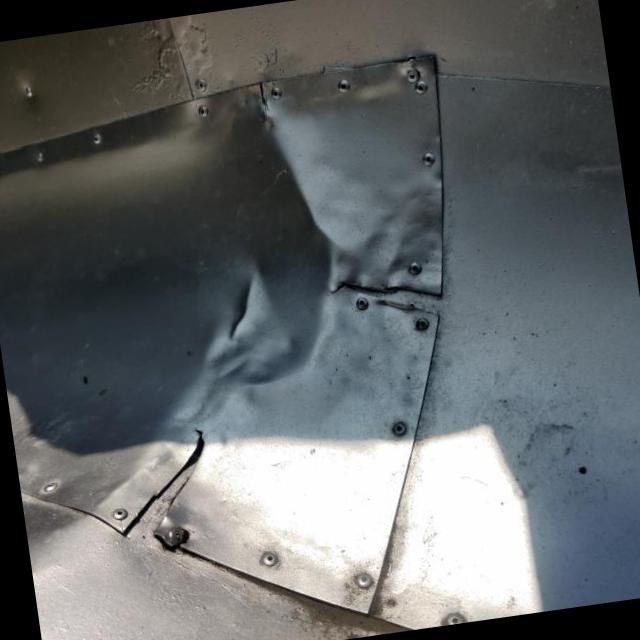Crack: (97, 429, 209, 547), (338, 285, 437, 331), (258, 81, 282, 133)
Dent: (168, 85, 357, 435)
